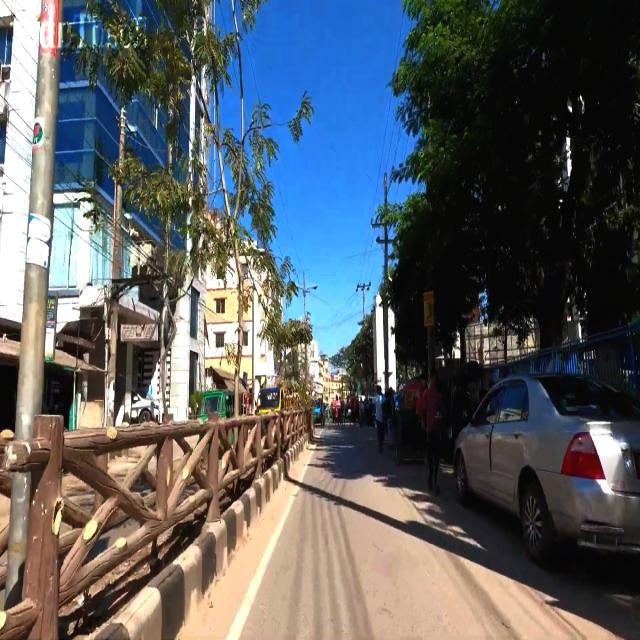white: (453, 362, 639, 563)
